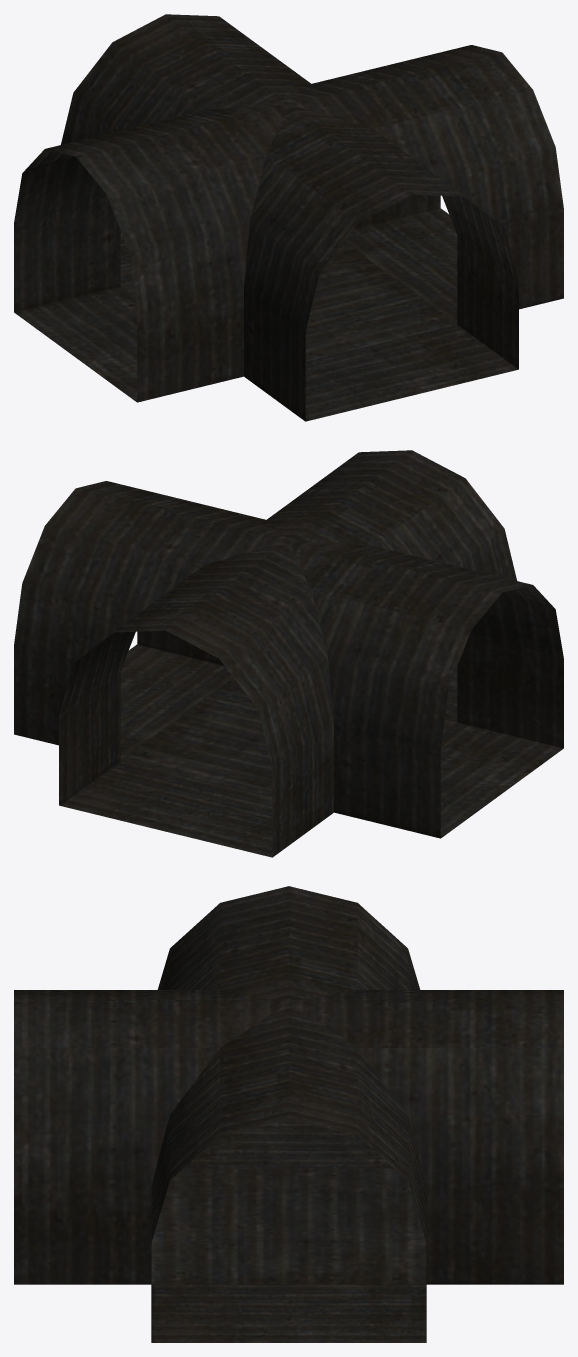
Rendered from tunnel_1_cross_tee.obj.
3 renders of one model, top to bottom at view 1: azimuth 30°, elevation 25°; view 2: azimuth 150°, elevation 25°; view 3: azimuth 270°, elevation 25°, orthographic. The views are drawn at different scales.
Visible parts, largest first — view 1: tunnel_1_cross_tee; view 2: tunnel_1_cross_tee; view 3: tunnel_1_cross_tee.
Part boxes in pixels (left/top/right/bottom): tunnel_1_cross_tee: left=14, top=14, right=563, bottom=421; tunnel_1_cross_tee: left=14, top=450, right=563, bottom=857; tunnel_1_cross_tee: left=14, top=886, right=563, bottom=1342.
Bounding box in the file's own units: 4 × 1.8 × 4.
